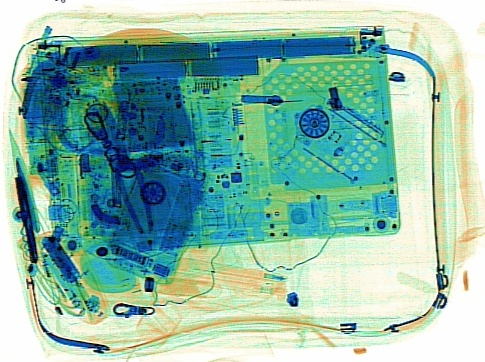scissors: (99, 97, 185, 258)
